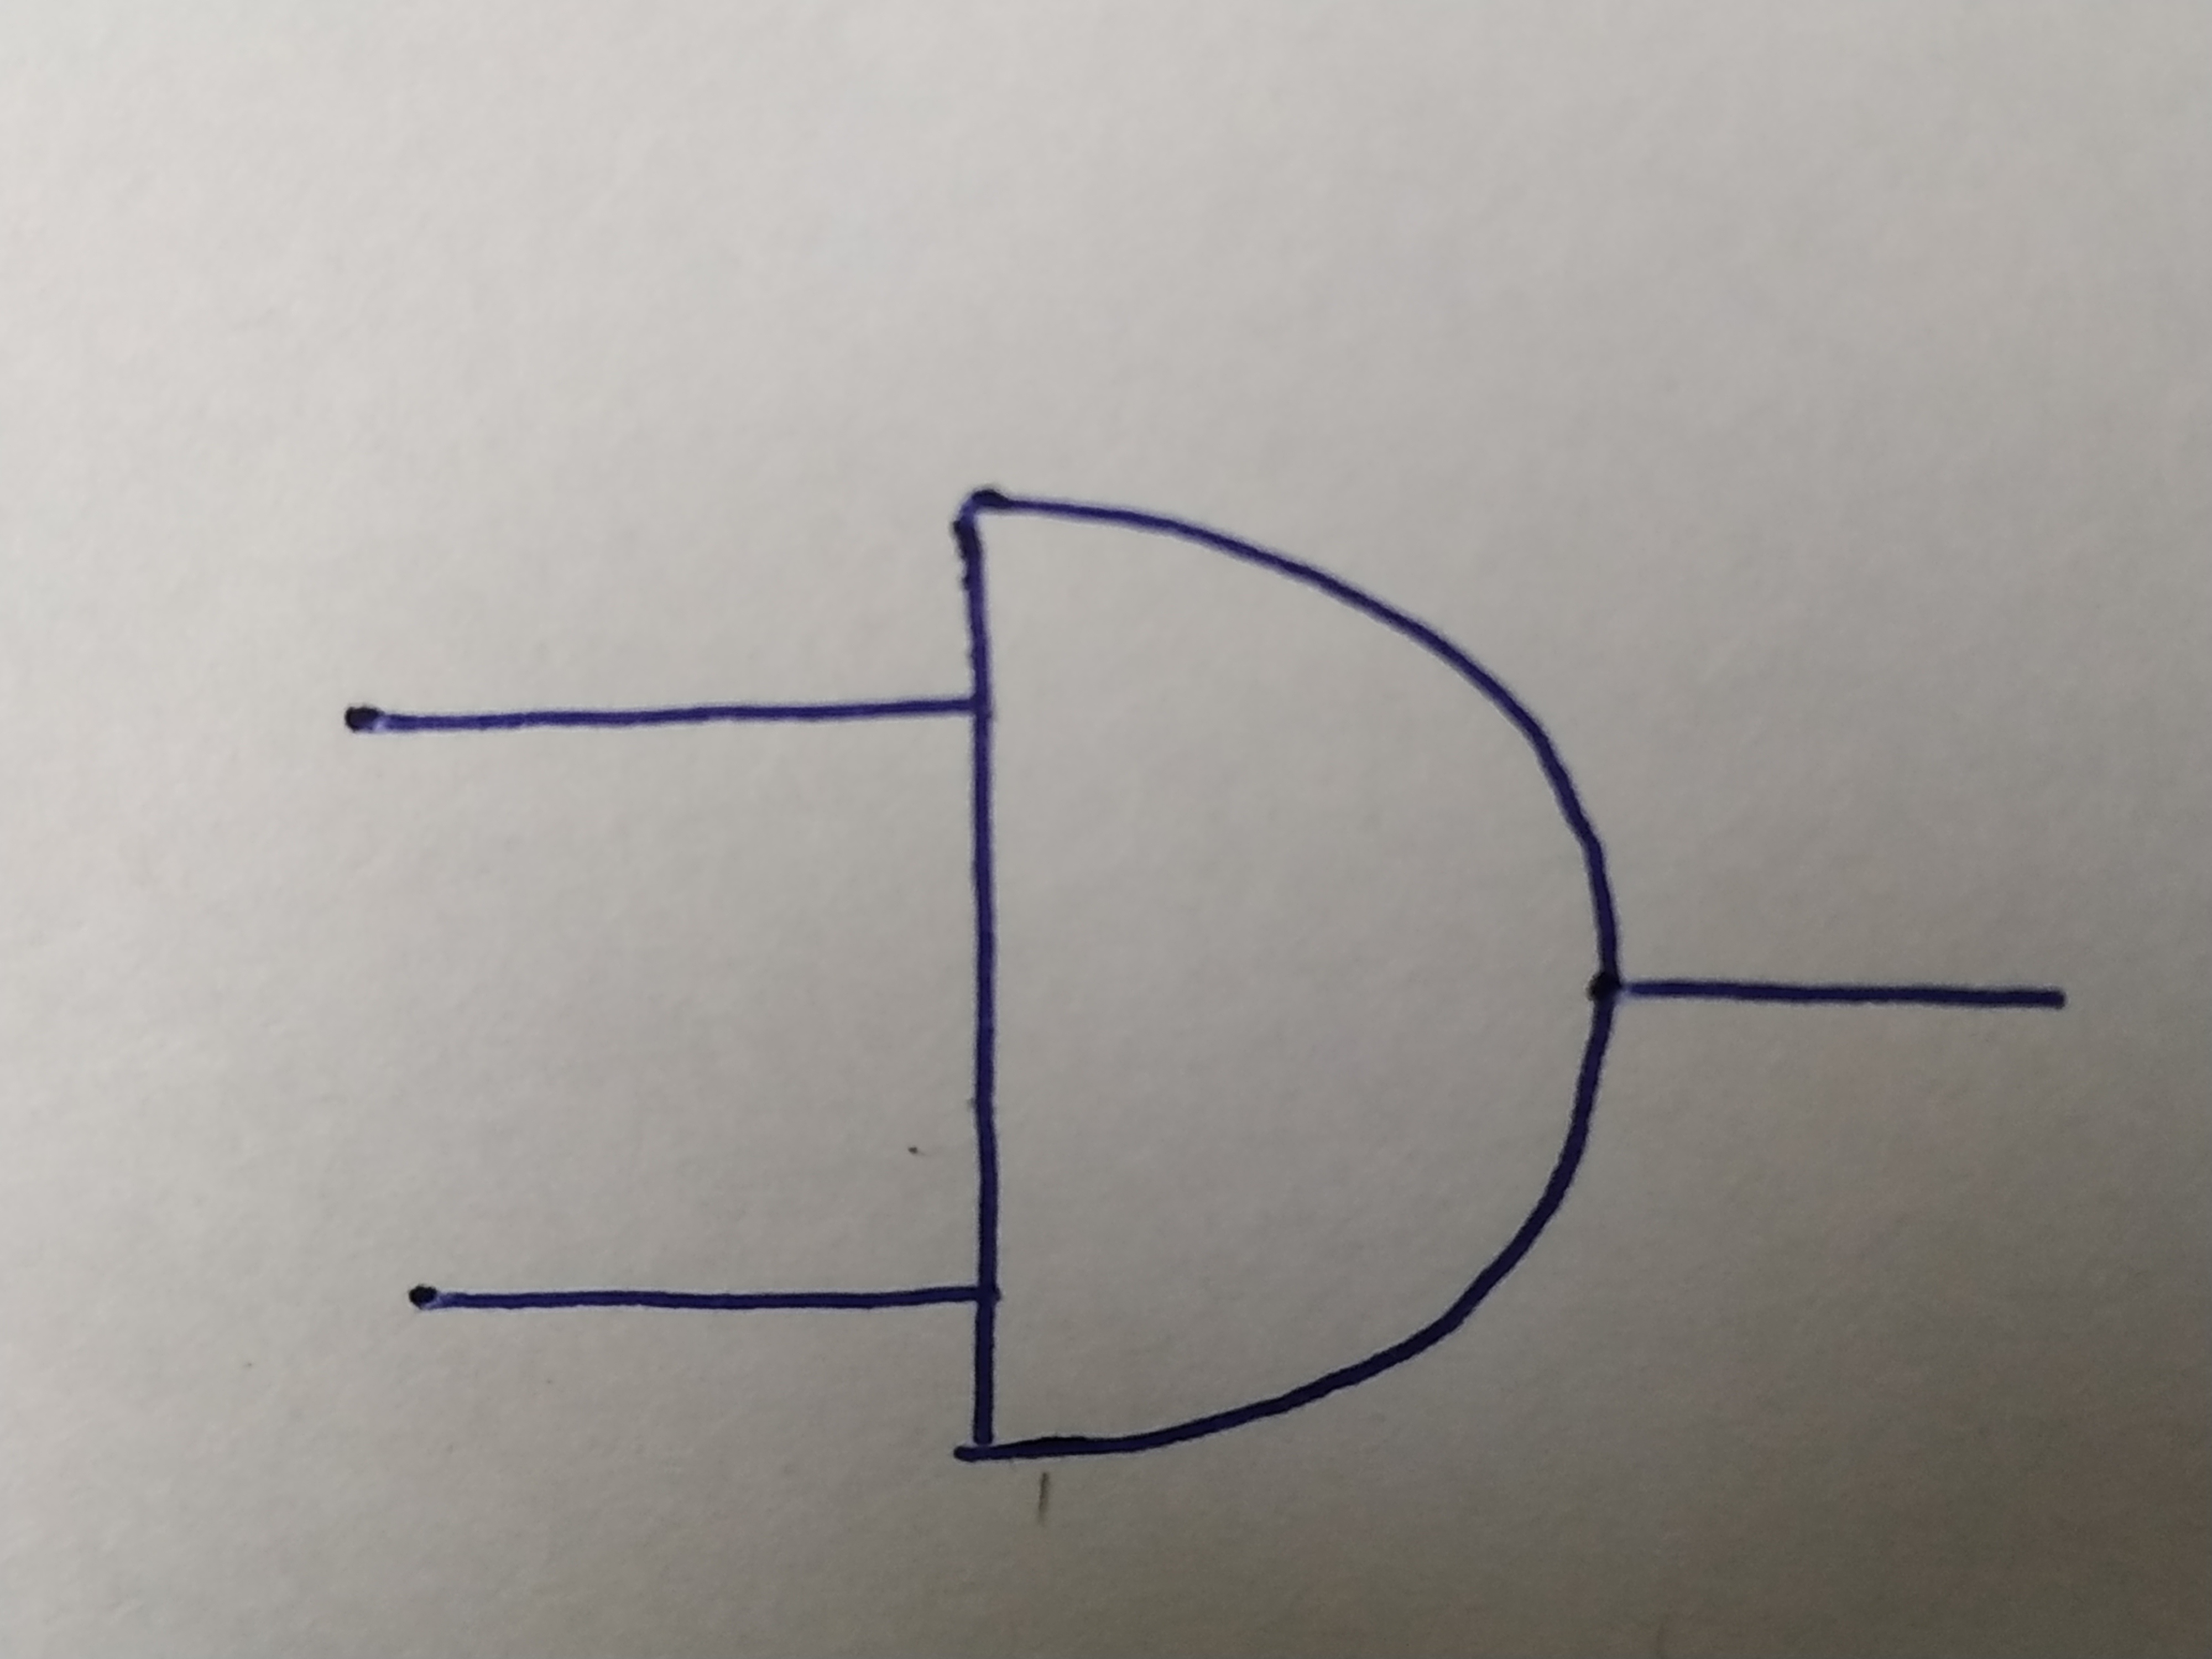and: (941, 484, 1618, 1441)
